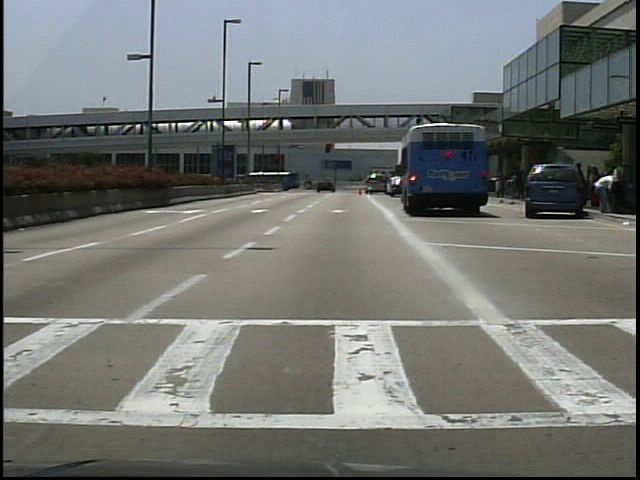person: (595, 170, 619, 214), (585, 162, 602, 211), (516, 167, 528, 203), (306, 178, 314, 191)
